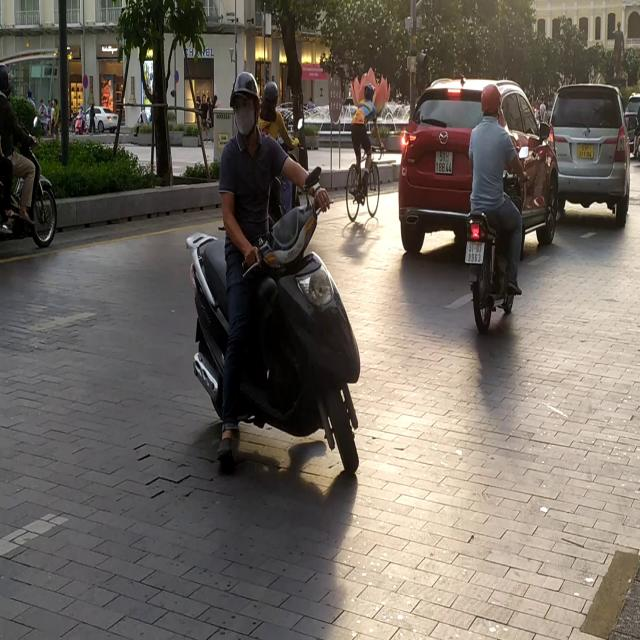bien_trang: (463, 235, 486, 265), (432, 150, 458, 175)
bien_vang: (575, 139, 596, 162)
